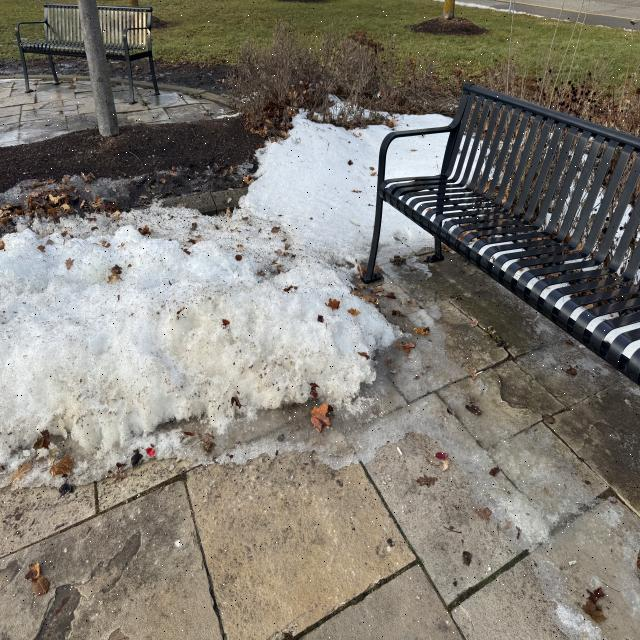Bench: (365, 70, 639, 385), (15, 6, 168, 98)
